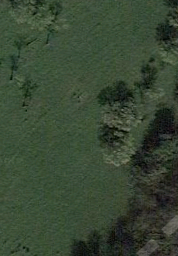tree: (94, 126, 146, 173), (95, 84, 144, 133)
